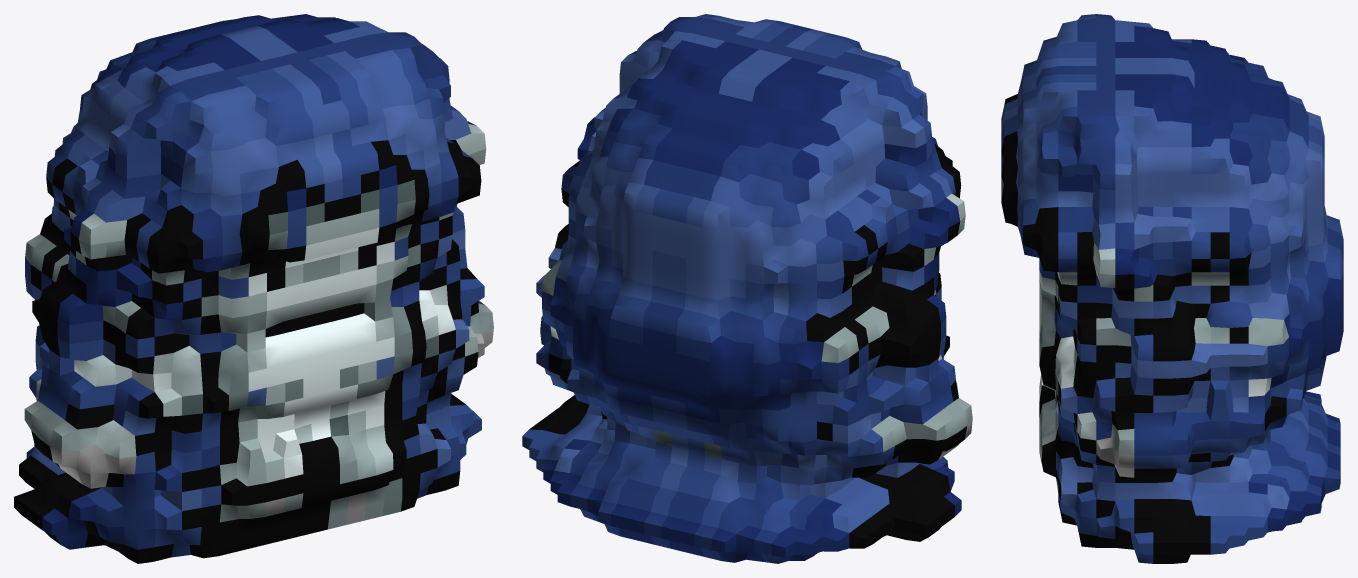
File: Icon_754_01.obj
The picture shows the model from 3 angles, left to right: view 1: azimuth 30°, elevation 25°; view 2: azimuth 150°, elevation 25°; view 3: azimuth 270°, elevation 25°; orthographic projection. The views are drawn at different scales.
Size of the model in its own units: 2.4 by 2.4 by 1.8.
